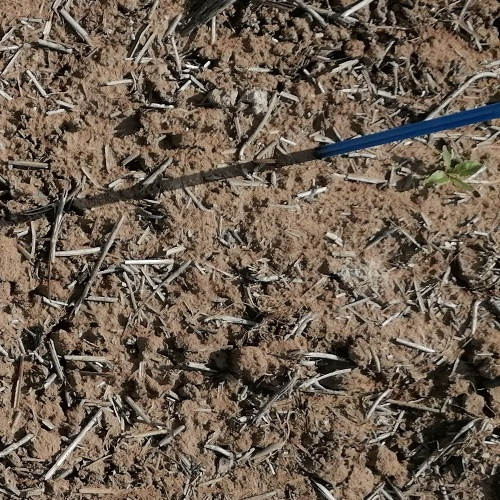beet: (427, 146, 481, 190)
